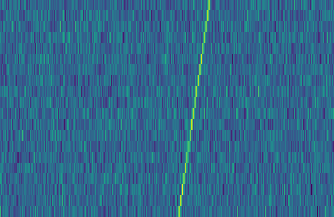signal: (174, 0, 215, 217)
